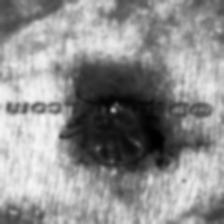Toxin: (46, 114, 196, 174)
